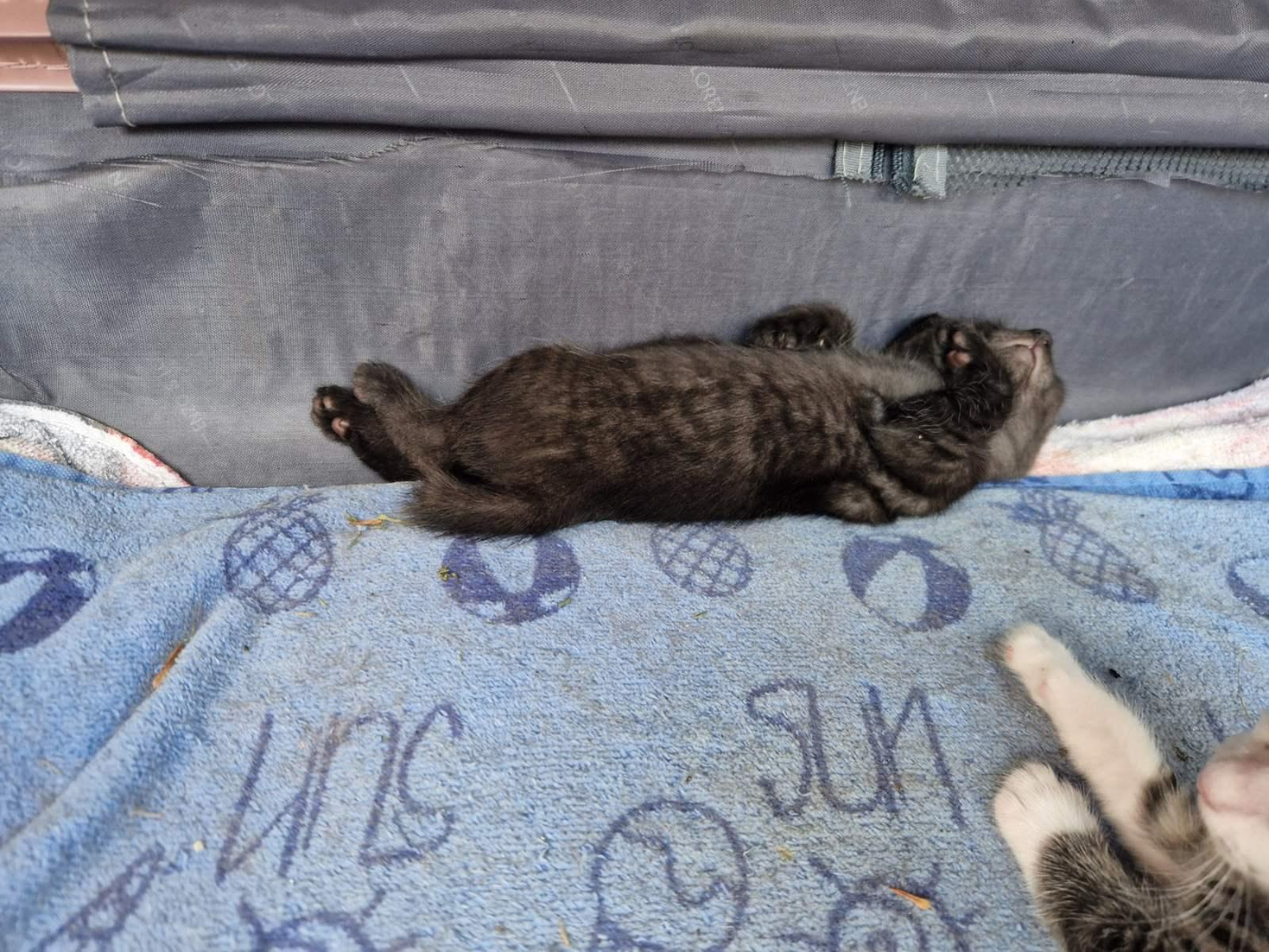macka: (309, 300, 1069, 541), (993, 615, 1269, 952)
